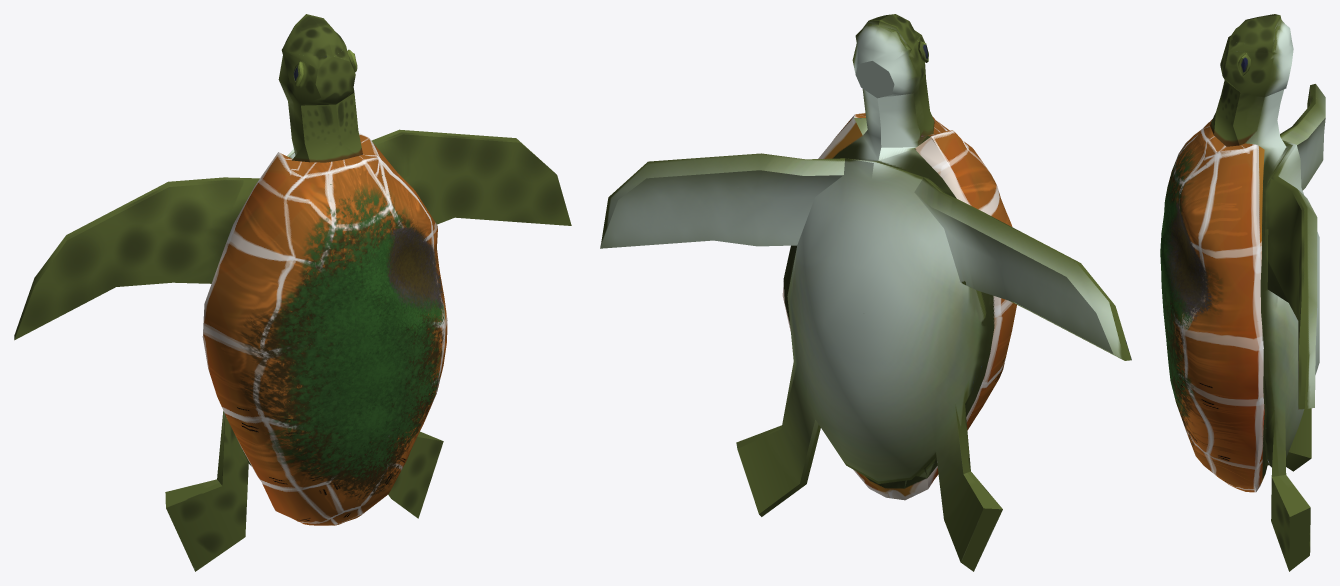
The model's file is Schildkröte texture.fbx.
3 views of the same model, side by side, from view 1: azimuth 30°, elevation 25°; view 2: azimuth 150°, elevation 25°; view 3: azimuth 270°, elevation 25° (orthographic). The views are drawn at different scales.
Parts seen in each view (by area): view 1: Schildkröte; view 2: Schildkröte; view 3: Schildkröte.
Boxes of the visible parts, x1,y1,x2,y2 form: Schildkröte: (14,14,571,571); Schildkröte: (600,14,1131,571); Schildkröte: (1160,14,1325,571).
Size of the model in its own units: 4972 by 4633 by 1379.
